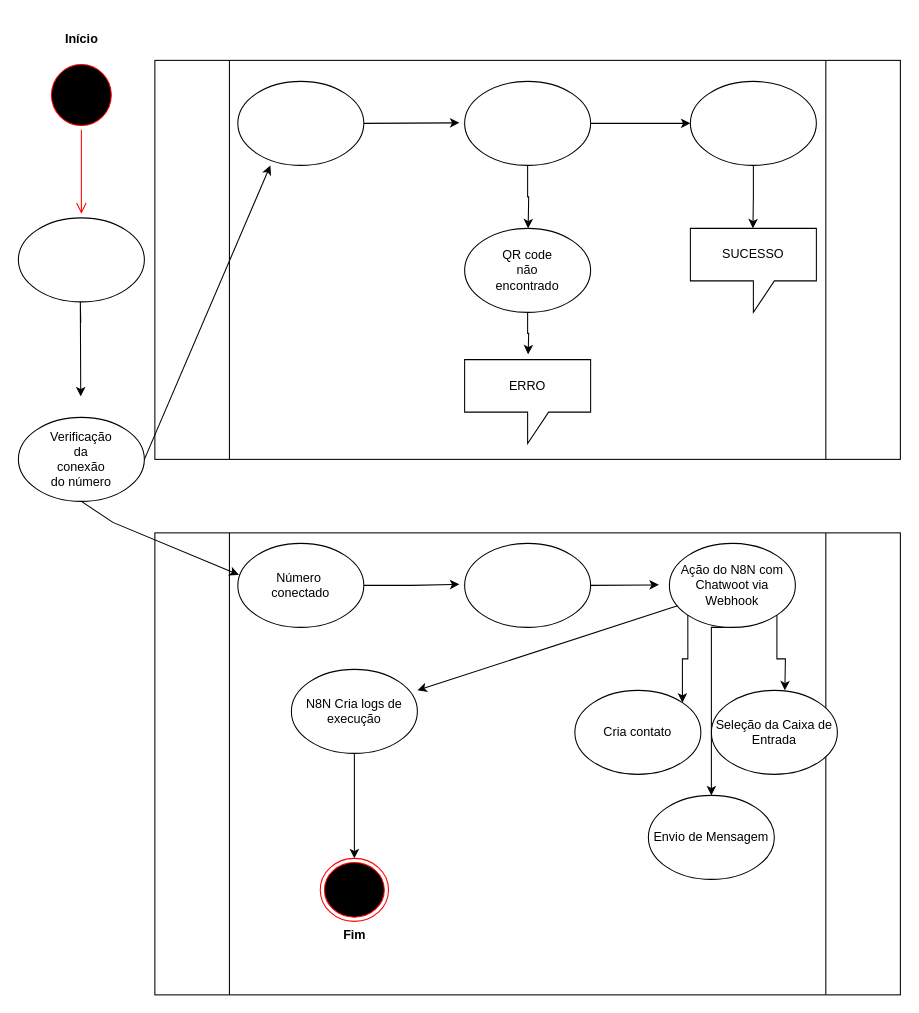
This 919x1013 diagram has some shape labels left out. The shapes that lost their labels are listed below. From the top down, each one's box as (x1, y1, x2, y2) in pixels, then its label:
(237, 80, 364, 165): Número não conectado
(464, 80, 591, 165): Busca QR code
(689, 80, 816, 165): QR Code encontrado
(17, 217, 144, 302): Send-Blusy acessa o Evolution Manager
(464, 542, 591, 627): Verifica se há mensagem para enviar
